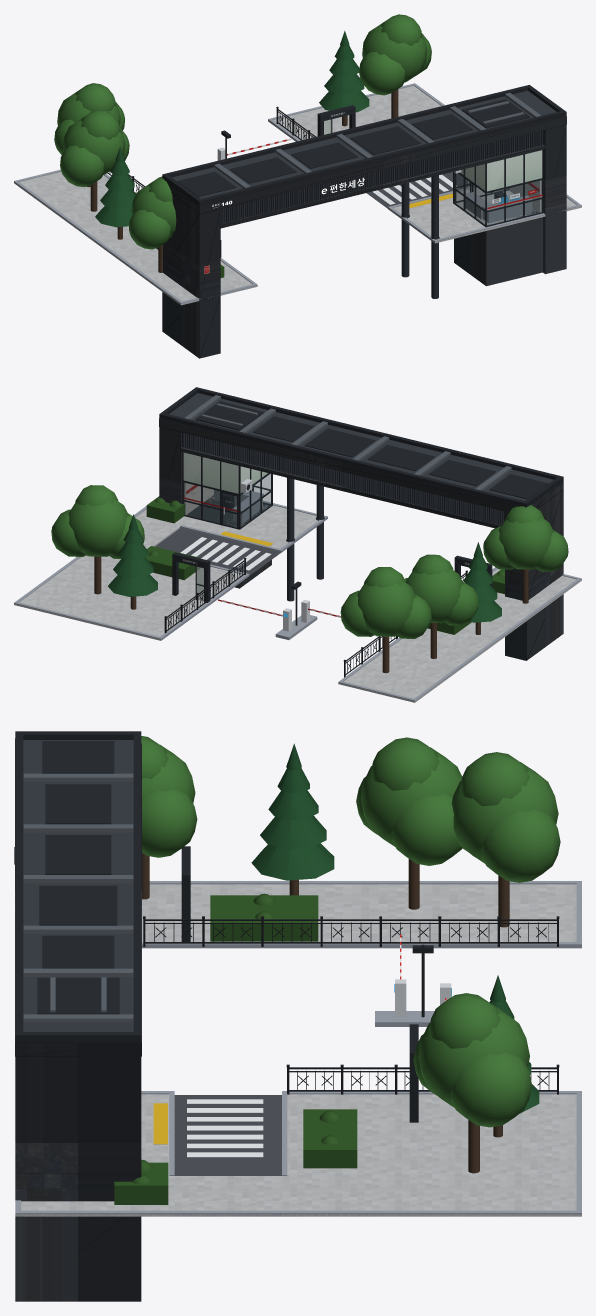
The model's file is asset_금파힐정문.glb.
3 renders of one model, top to bottom at view 1: azimuth 30°, elevation 25°; view 2: azimuth 150°, elevation 25°; view 3: azimuth 270°, elevation 25°, orthographic. The views are drawn at different scales.
Parts seen in each view (by area): view 1: Merged_Tree_Deciduous, Merged_Roof_Dark_Bays, Sidewalk_NW, Merged_Roof_Coping_Parapet, Merged_Lintel_Vertical_Louvers, Guardhouse_Basement_1F, NW_Stone_End_Pier, Merged_Tree_Pines, Lintel_Tier3_UpperFascia, Roof_Waterproof_Deck, NW_Stone_End_Pier_B1, Sidewalk_SE_Interior (+18 smaller); view 2: Merged_Tree_Deciduous, Sidewalk_SE_Interior, Sidewalk_NW, Merged_Roof_Dark_Bays, Merged_Roof_Coping_Parapet, Merged_Lintel_Vertical_Louvers, Merged_Tree_Pines, Merged_Sidewalk_Curbs, Roof_Waterproof_Deck, Lintel_Tier3_UpperFascia, Sidewalk_SE_Front, Lintel_Tier2_RecessedCore (+21 smaller); view 3: Merged_Tree_Deciduous, Sidewalk_SE_Interior, Sidewalk_NW, SE_Stone_End_Pier, Merged_Roof_Dark_Bays, Roof_Waterproof_Deck, SE_Stone_End_Pier_B1, Merged_Sidewalk_Curbs, Merged_Tree_Shrubs, Merged_Roof_Coping_Parapet, Merged_Tree_Pines, Interior_SE_SideLane (+8 smaller).
Part boxes in pixels (left/top/right/bottom): Merged_Tree_Deciduous: left=54, top=14, right=431, bottom=249; Merged_Roof_Dark_Bays: left=177, top=99, right=529, bottom=196; Sidewalk_NW: left=14, top=171, right=257, bottom=305; Merged_Roof_Coping_Parapet: left=162, top=85, right=566, bottom=205; Merged_Lintel_Vertical_Louvers: left=220, top=130, right=542, bottom=223; Guardhouse_Basement_1F: left=454, top=217, right=542, bottom=286; NW_Stone_End_Pier: left=163, top=194, right=220, bottom=300; Merged_Tree_Pines: left=95, top=30, right=369, bottom=227; Lintel_Tier3_UpperFascia: left=167, top=116, right=566, bottom=214; Roof_Waterproof_Deck: left=172, top=90, right=556, bottom=198; NW_Stone_End_Pier_B1: left=162, top=292, right=220, bottom=358; Sidewalk_SE_Interior: left=273, top=85, right=441, bottom=139; Merged_Tree_Deciduous: left=51, top=485, right=568, bottom=638; Sidewalk_SE_Interior: left=14, top=555, right=243, bottom=640; Sidewalk_NW: left=338, top=568, right=581, bottom=702; Merged_Roof_Dark_Bays: left=196, top=401, right=548, bottom=499; Merged_Roof_Coping_Parapet: left=159, top=387, right=563, bottom=507; Merged_Lintel_Vertical_Louvers: left=183, top=433, right=504, bottom=525; Merged_Tree_Pines: left=108, top=514, right=501, bottom=622; Merged_Sidewalk_Curbs: left=14, top=500, right=581, bottom=701; Roof_Waterproof_Deck: left=169, top=393, right=553, bottom=500; Lintel_Tier3_UpperFascia: left=159, top=418, right=563, bottom=512; Sidewalk_SE_Front: left=137, top=505, right=317, bottom=548; Lintel_Tier2_RecessedCore: left=182, top=433, right=504, bottom=524; Merged_Tree_Deciduous: left=141, top=736, right=560, bottom=1127; Sidewalk_SE_Interior: left=282, top=1094, right=581, bottom=1216; Sidewalk_NW: left=142, top=884, right=576, bottom=941; SE_Stone_End_Pier: left=15, top=1056, right=141, bottom=1201; Merged_Roof_Dark_Bays: left=37, top=741, right=119, bottom=1014; Roof_Waterproof_Deck: left=23, top=740, right=133, bottom=1031; SE_Stone_End_Pier_B1: left=15, top=1216, right=141, bottom=1301; Merged_Sidewalk_Curbs: left=15, top=881, right=581, bottom=1216; Merged_Tree_Shrubs: left=114, top=893, right=357, bottom=1204; Merged_Roof_Coping_Parapet: left=15, top=731, right=141, bottom=1042; Merged_Tree_Pines: left=251, top=743, right=539, bottom=1113; Interior_SE_SideLane: left=174, top=1095, right=281, bottom=1175.
Bounding box in the file's own units: 27.29 × 10.21 × 18.95.
45 materials, 17 textured.
